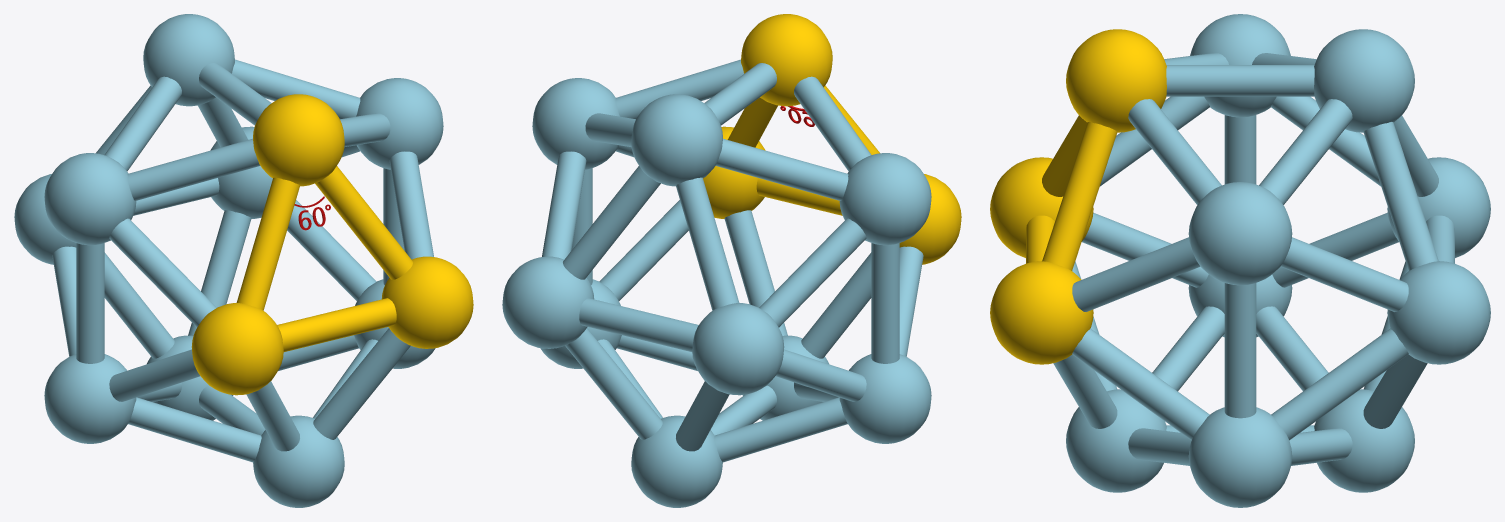
The model's file is yuanzijingti2.FBX.
3 views of the same model, side by side, from view 1: azimuth 30°, elevation 25°; view 2: azimuth 150°, elevation 25°; view 3: azimuth 270°, elevation 25° (orthographic). The views are drawn at different scales.
Parts seen in each view (by area): view 1: Y2; view 2: Y2; view 3: Y2.
Part boxes in pixels (<box>): Y2: <box>14,14,473,507</box>; Y2: <box>502,14,961,507</box>; Y2: <box>990,14,1490,507</box>.
Bounding box in the file's own units: 36.59 × 36.59 × 36.59.
